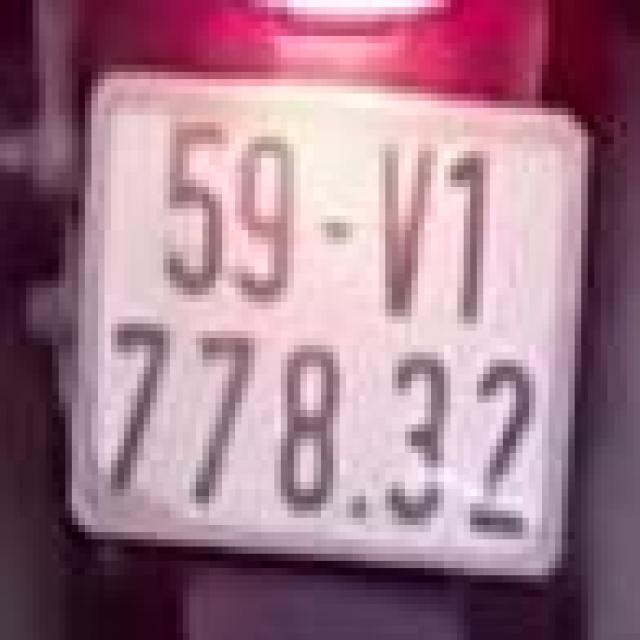1: (441, 129, 506, 331)
2: (467, 349, 552, 543)
3: (375, 345, 454, 532)
5: (154, 108, 226, 302)
7: (186, 320, 252, 514), (104, 313, 170, 500)
8: (264, 334, 350, 528)
9: (232, 119, 304, 320)
V: (359, 129, 438, 331)
